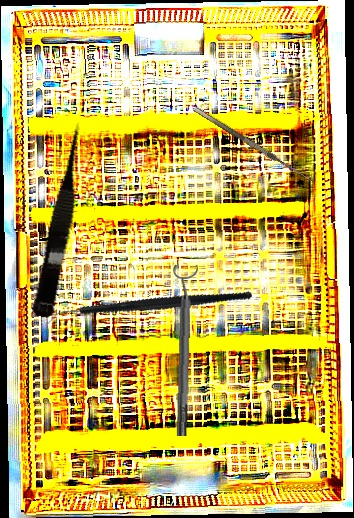Chopper: (44, 242, 253, 375)
Fixation Ring: (167, 264, 200, 437)
Hook Surgical: (192, 99, 319, 185)
Micro Scissor: (31, 120, 95, 320)
